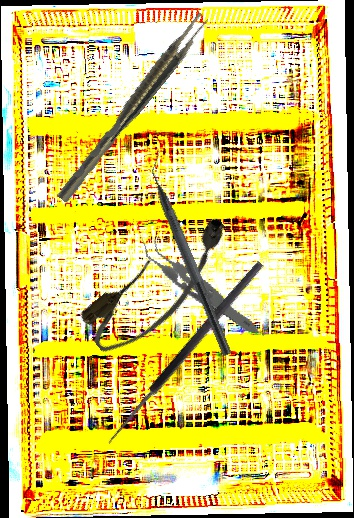Cannula: (74, 207, 248, 365)
Chopper: (137, 147, 247, 358)
Hook Surgical: (104, 259, 274, 455)
Tissue Forceps: (51, 10, 213, 204), (138, 206, 260, 361)
